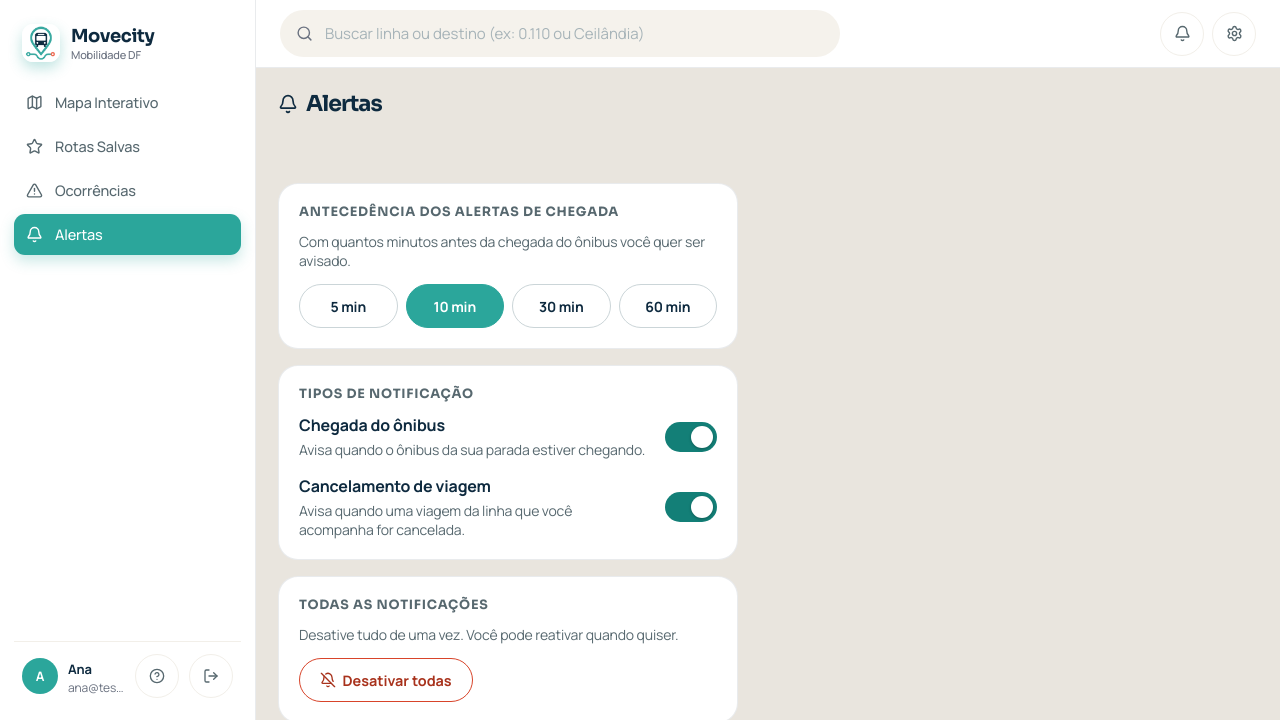
Test: Alertas (US #29) › cenário 3: desativar todas e reativar manualmente
Expected: the element showing "5 min 10 min 30 min 60 min" is shown, [299,284,717,328]
Click the button "Desativar todas" at point(386, 680), box [299,658,473,702]
(page scrolled)
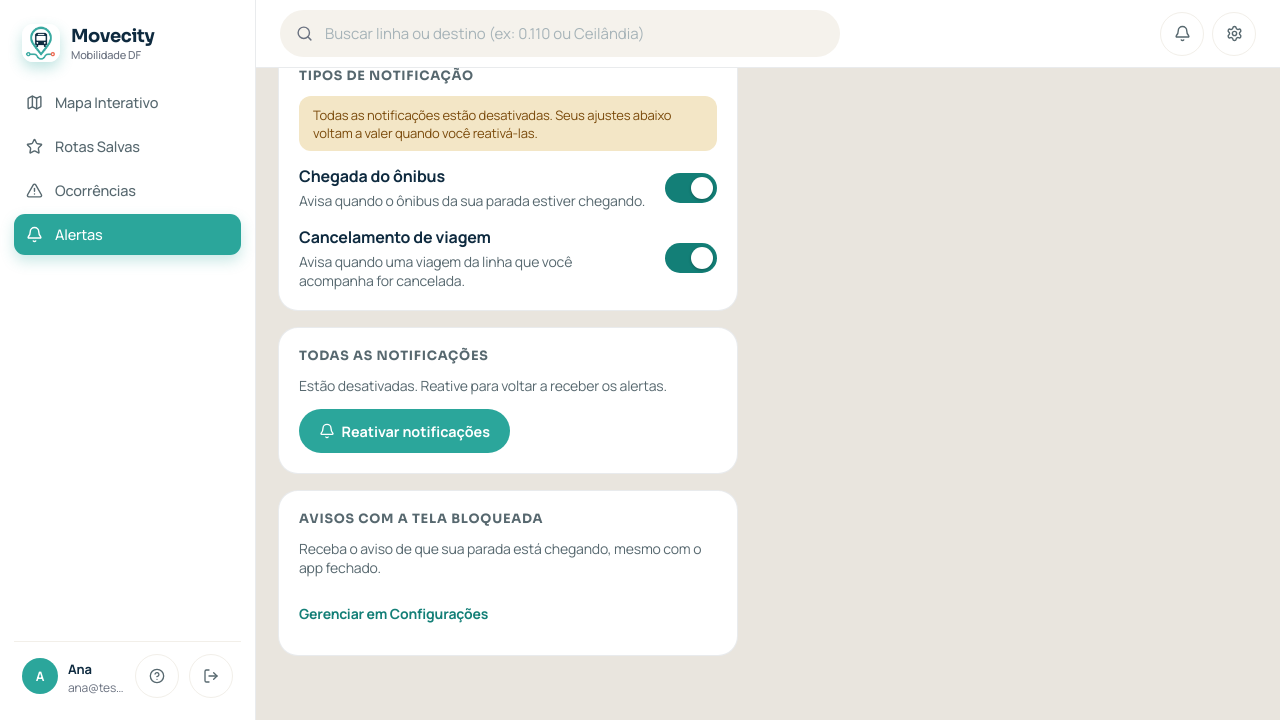
Now the text "Todas as notificações estão desativadas" is shown, box [313,106,671,142]
Click the button "Reativar notificações" at point(404, 431), box [299,409,510,453]
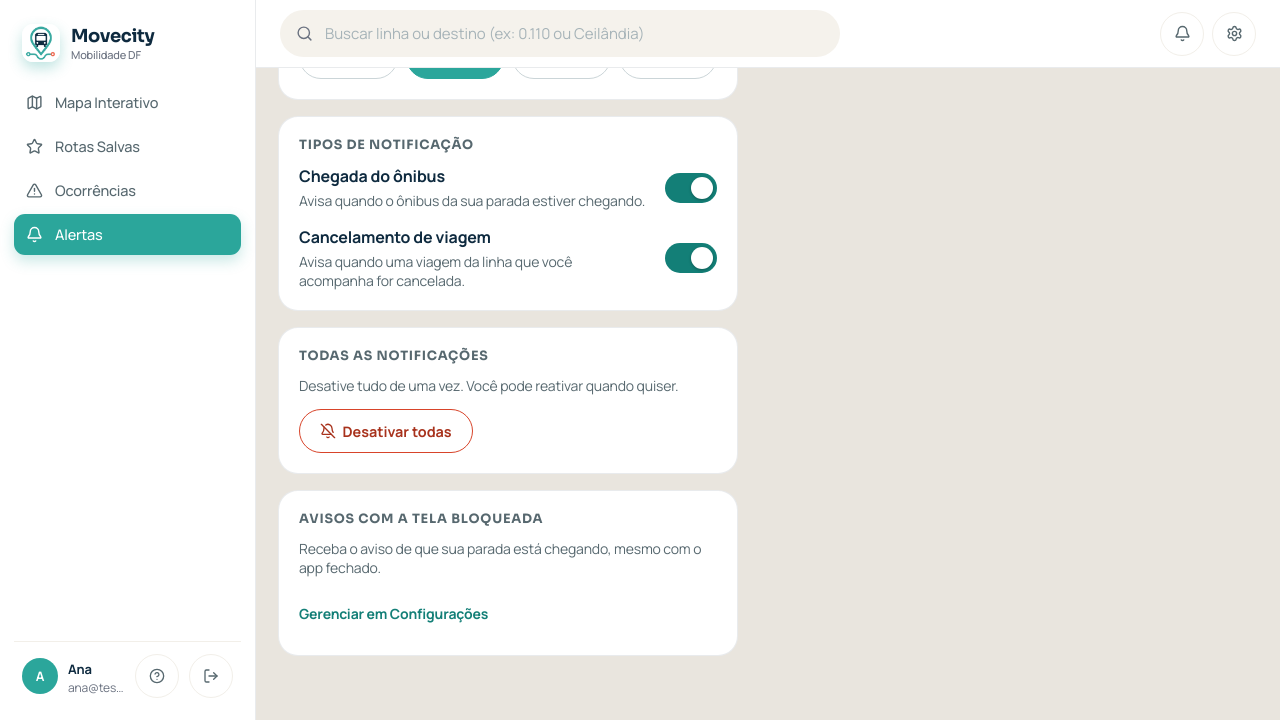
Now the button "Desativar todas" is shown, box [299,409,473,453]
